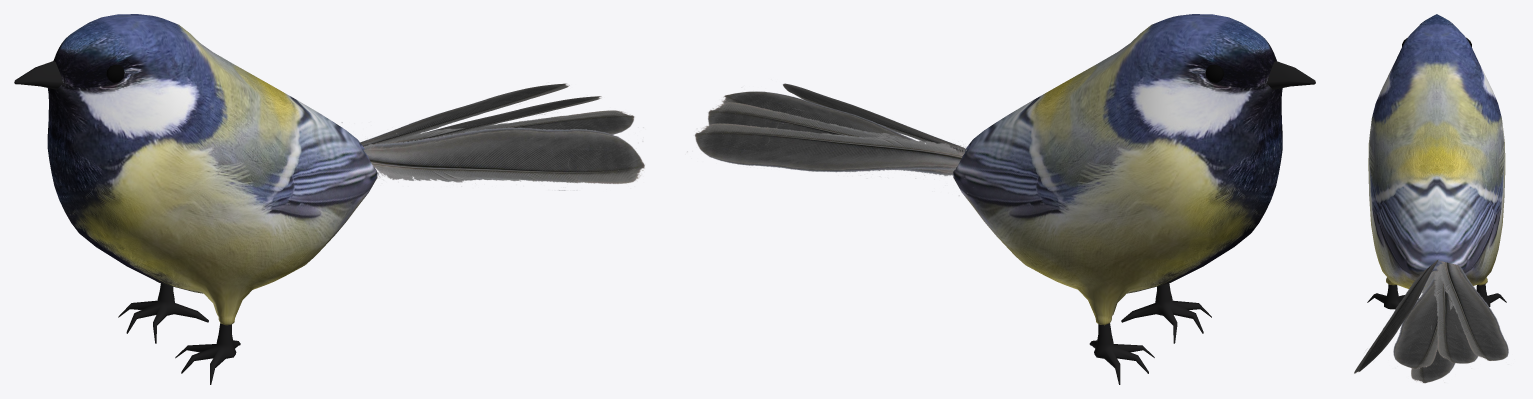
The model's file is great_tit_bird_low_poly.glb.
The picture shows the model from 3 angles, left to right: view 1: azimuth 30°, elevation 25°; view 2: azimuth 150°, elevation 25°; view 3: azimuth 270°, elevation 25°; orthographic projection. The views are drawn at different scales.
Visible parts, largest first — view 1: body2_1, tail_feather1_4, legs_3, tail_feather2_5, tail_feather5_8, tail_feather4_7, beak_0; view 2: body2_1, tail_feather2_5, tail_feather4_7, legs_3, tail_feather5_8, tail_feather1_4, beak_0; view 3: body2_1, tail_feather2_5, tail_feather5_8, tail_feather4_7, tail_feather1_4, tail_feather3_6, legs_3.
Boxes of the visible parts, x1,y1,x2,y2 form: body2_1: (47,14,377,325); tail_feather1_4: (341,122,644,190); legs_3: (118,283,240,384); tail_feather2_5: (360,83,569,148); tail_feather5_8: (367,110,643,143); tail_feather4_7: (415,96,601,140); beak_0: (14,61,63,89); body2_1: (953,14,1282,325); tail_feather2_5: (687,123,966,175); tail_feather4_7: (697,102,967,195); legs_3: (1089,283,1211,384); tail_feather5_8: (721,91,930,165); tail_feather1_4: (783,83,966,153); beak_0: (1266,61,1315,89); body2_1: (1368,14,1505,288); tail_feather2_5: (1435,260,1508,360); tail_feather5_8: (1393,274,1462,368); tail_feather4_7: (1431,267,1477,363); tail_feather1_4: (1354,259,1438,373); tail_feather3_6: (1411,270,1455,383); legs_3: (1367,284,1506,309).
Size of the model in its own units: 0.2622 by 0.14 by 0.0858.
5 materials, 2 textured.
